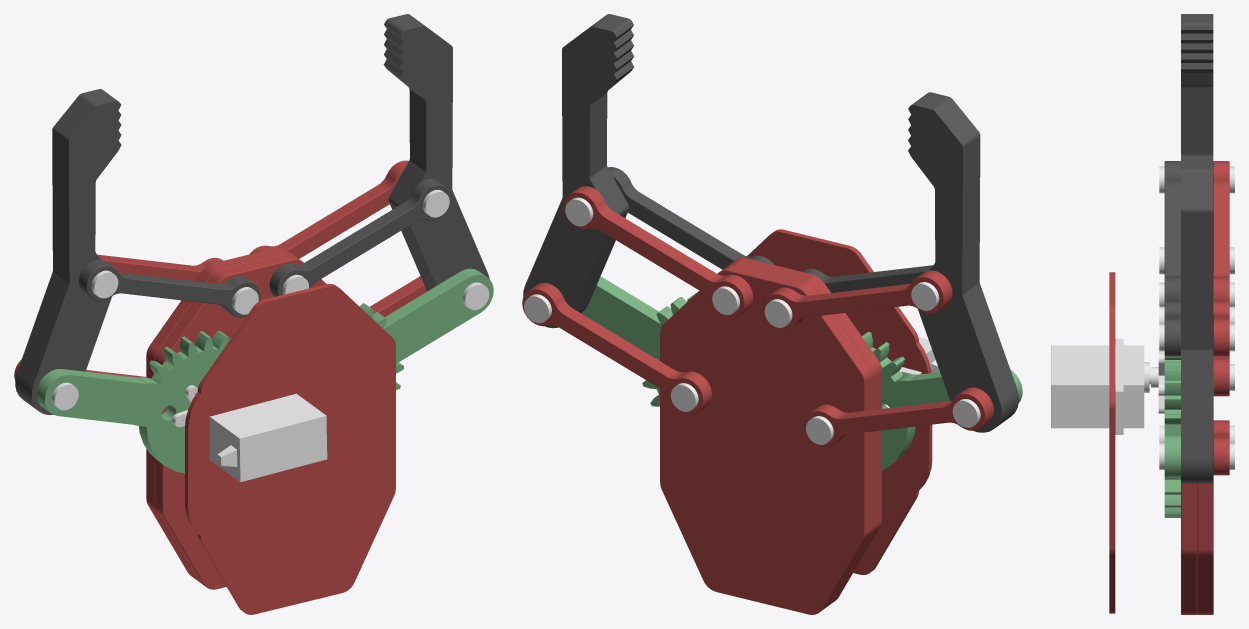
File: gripper.gltf
3 views of the same model, side by side, from view 1: azimuth 30°, elevation 25°; view 2: azimuth 150°, elevation 25°; view 3: azimuth 270°, elevation 25° (orthographic). The views are drawn at different scales.
Visible parts, largest first — view 1: Body_1, 3DGeom~764, 3DGeom~765, Body_10, Body_7, Body_2, Body_8, Body_9, Body_5, Body_6, 3DGeom~763; view 2: 3DGeom~764, Body_5, Body_6, Body_1, 3DGeom~765, Body_10, Body_8, 3DGeom~763, Body_7, Body_9; view 3: 3DGeom~764, Body_2 (×2), Body_6, Body_7, Body_1 (×3), 3DGeom~765, Body_5, Body_9, Body_10, Body_8, 3DGeom~763, Body_3 (+1 smaller).
Part boxes in pixels (x1,y1,x2,y2): Body_1: (185,284,395,614); 3DGeom~764: (14,160,426,589); 3DGeom~765: (36,268,493,473); Body_10: (23,95,121,414); Body_7: (392,20,489,288); Body_2: (209,393,327,482); Body_8: (269,179,451,296); Body_9: (79,259,260,317); Body_5: (15,89,109,405); Body_6: (383,14,431,291); 3DGeom~763: (232,274,308,314); 3DGeom~764: (522,186,993,614); Body_5: (908,98,1010,432); Body_6: (523,20,625,328); Body_1: (747,229,932,574); 3DGeom~765: (581,276,1022,470); Body_10: (920,92,1018,421); Body_8: (608,167,774,269); 3DGeom~763: (670,286,833,444); Body_7: (579,14,633,312); Body_9: (802,265,933,292); 3DGeom~764: (1181,161,1229,614); Body_2 (×2): (1051,324,1234,434); Body_6: (1197,160,1213,483); Body_7: (1181,160,1196,483); Body_1 (×3): (1109,272,1234,613); 3DGeom~765: (1164,356,1180,517); Body_5: (1197,14,1213,160); Body_9: (1164,161,1180,301); Body_10: (1181,14,1196,160); Body_8: (1164,301,1180,356); 3DGeom~763: (1159,282,1234,442); Body_3: (1159,166,1234,193).
Size of the model in its own units: 0.8601 by 0.9199 by 0.3062.
